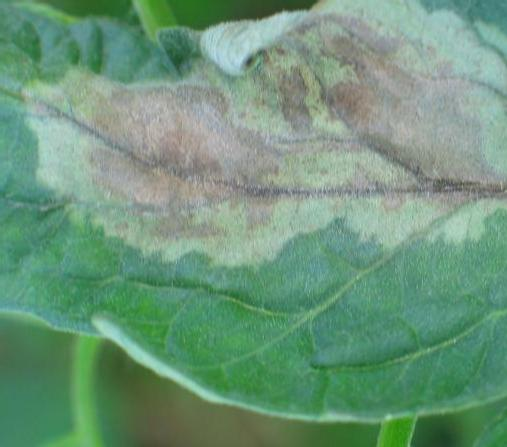Tomato leaf late blight: (0, 0, 507, 427)
